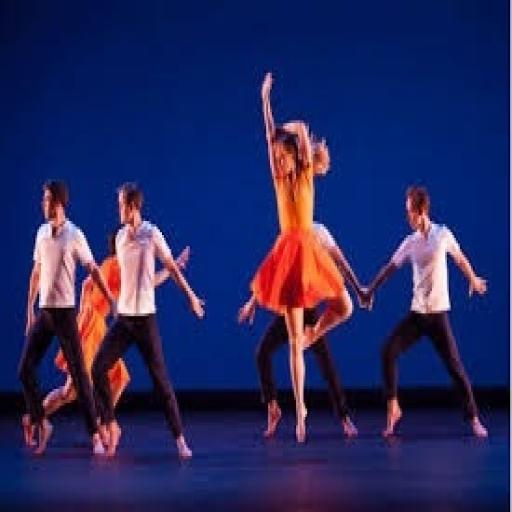dancing: (0, 153, 216, 512), (238, 67, 367, 448), (360, 182, 492, 445), (17, 176, 117, 462)
